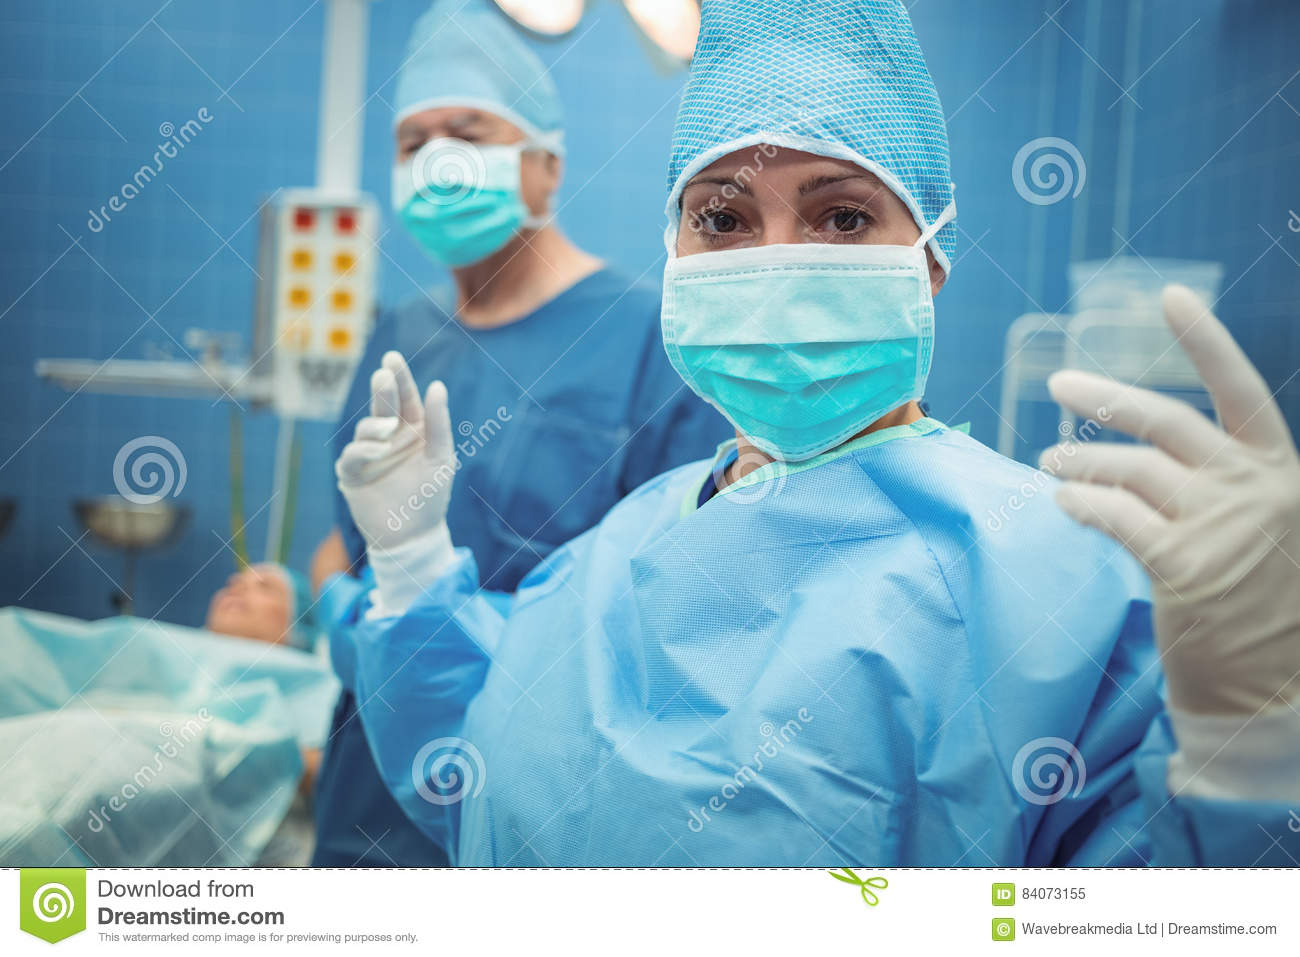mask: (661, 260, 932, 445), (386, 149, 540, 248)
